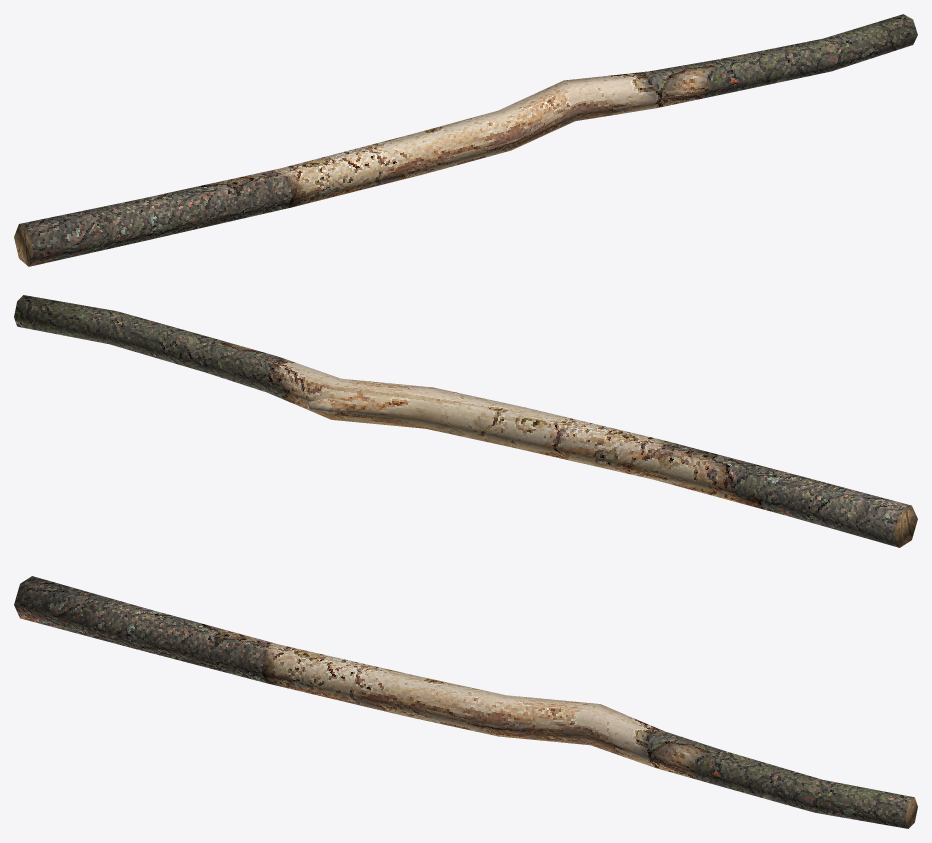
The model's file is dead_branch_01.glb.
3 views of the same model, one above another, from view 1: azimuth 30°, elevation 25°; view 2: azimuth 150°, elevation 25°; view 3: azimuth 330°, elevation 25° (orthographic).
Parts seen in each view (by area): view 1: dead_branch_01; view 2: dead_branch_01; view 3: dead_branch_01.
Boxes of the visible parts, bbox=[...] form: dead_branch_01: bbox=[14, 14, 917, 266]; dead_branch_01: bbox=[14, 295, 917, 547]; dead_branch_01: bbox=[14, 576, 917, 828].
Size of the model in its own units: 1.58 by 0.0588 by 0.1337.
Materials: 1 (1 with a texture image).
